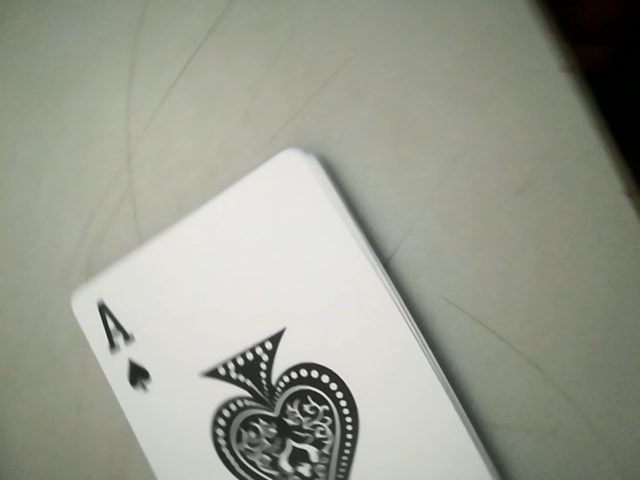ht a: (83, 298, 162, 408)
